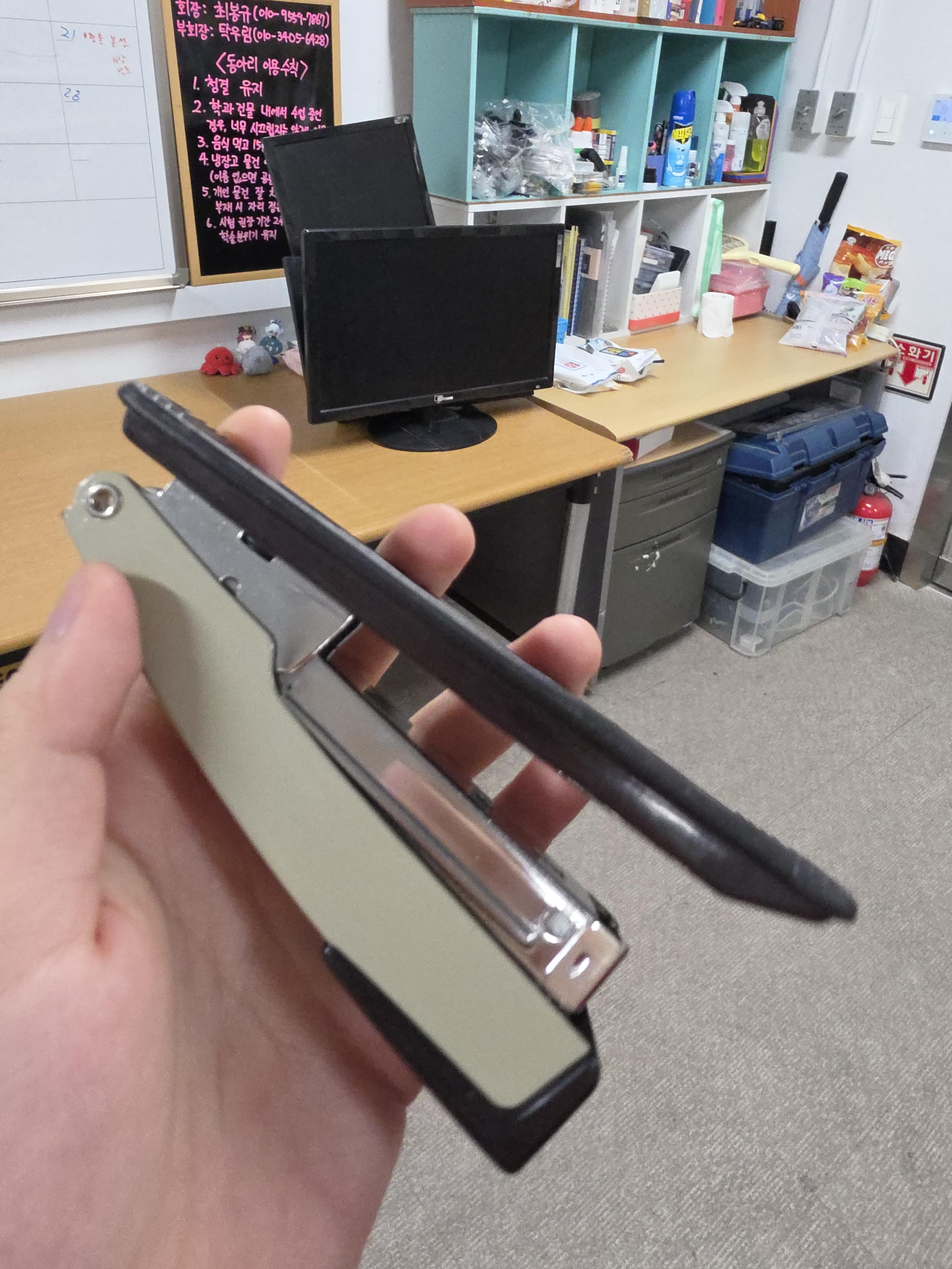stapler: (62, 378, 862, 1177)
tissue: (698, 291, 734, 340)
